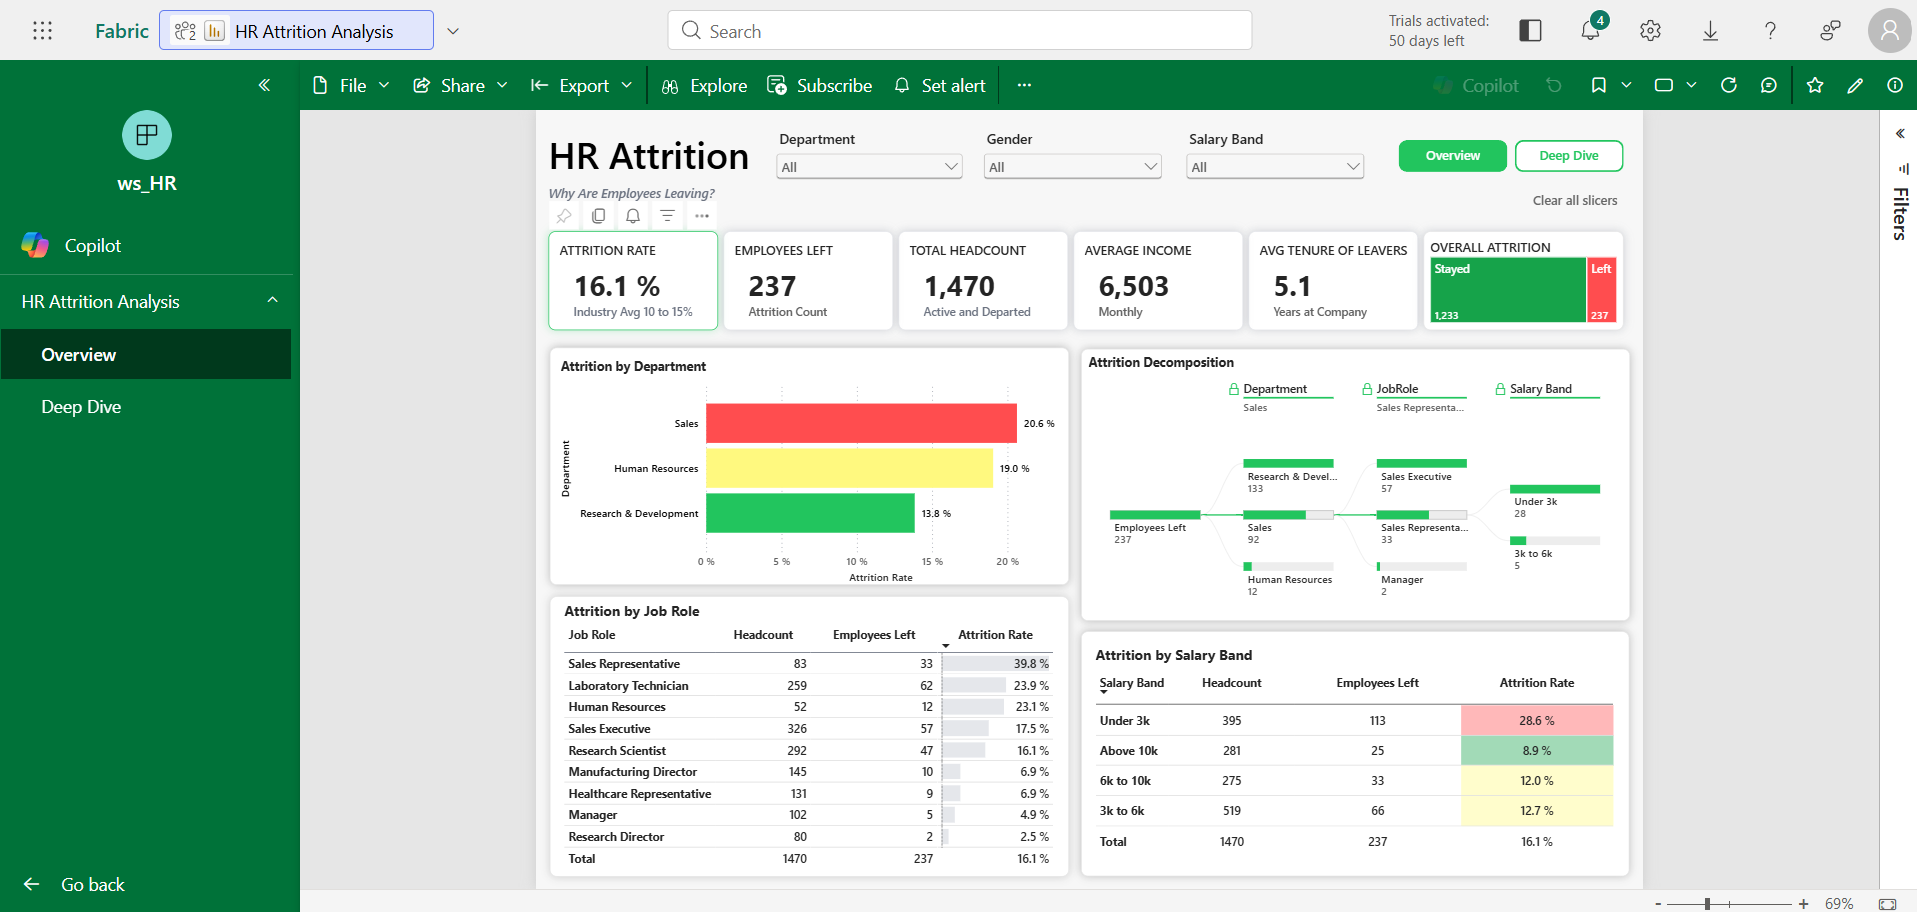

This screenshot's page, from the dashboard's own definition file:
{"tool":"powerbi","page":{"name":"Overview","canvas":[1280,900],"ordinal":0},"visuals":[{"type":"textbox","box":[14.3,21.4,259,63.7],"z":0},{"type":"textbox","box":[14.3,85.7,259,27.6],"z":1000},{"type":"slicer","fields":{"Values":["hr_employees.Department"]},"box":[272.9,21.4,225,73.3],"z":2000},{"type":"slicer","fields":{"Values":["hr_employees.Salary Band"]},"box":[747.1,21.4,215.7,72.9],"z":3000},{"type":"slicer","fields":{"Values":["hr_employees.Gender"]},"box":[512.9,21.4,215.7,72.9],"z":4000},{"type":"pageNavigator","box":[997.1,34.3,260,37.1],"z":5000},{"type":"actionButton","box":[1120,85.7,160,38.6],"z":6000},{"type":"cardVisual","title":"AVG TENURE OF LEAVERS","fields":{"Data":["hr_employees.Avg Tenure of Leavers"]},"box":[823.4,140,196,114],"z":7000},{"type":"cardVisual","title":"AVERAGE INCOME","fields":{"Data":["hr_employees.Avg Monthly Income"]},"box":[621.1,140,196,114],"z":8000},{"type":"cardVisual","title":"TOTAL HEADCOUNT","fields":{"Data":["hr_employees.Headcount"]},"box":[418.9,140,196,114],"z":9000},{"type":"cardVisual","title":"EMPLOYEES LEFT","fields":{"Data":["hr_employees.Employees Left"]},"box":[216.6,140,196,114],"z":10000},{"type":"cardVisual","title":"ATTRITION RATE","fields":{"Data":["hr_employees.Attrition Rate"]},"box":[14.3,140,196,114],"z":11000},{"type":"treemap","title":"OVERALL ATTRITION","fields":{"Values":["hr_employees.Employees Left","hr_employees.Employees Stayed"]},"box":[1025.7,140,231.4,114.3],"z":12000},{"type":"barChart","title":"Attrition by Department","fields":{"Category":["hr_employees.Department"],"Y":["hr_employees.Attrition Rate"]},"box":[16,274,600,274],"z":13000},{"type":"decompositionTreeVisual","title":"Attrition Decomposition","fields":{"Analyze":["hr_employees.Employees Left"],"ExplainBy":["hr_employees.Department","hr_employees.JobRole","hr_employees.Salary Band"]},"box":[630,276,634,314],"z":14000},{"type":"pivotTable","title":"Attrition by Job Role","fields":{"Rows":["hr_employees.JobRole"],"Values":["hr_employees.Headcount","hr_employees.Employees Left","hr_employees.Attrition Rate"]},"box":[16,562,600,324],"z":15000},{"type":"pivotTable","title":"Attrition by Salary Band","fields":{"Rows":["hr_employees.Salary Band"],"Values":["hr_employees.Headcount","hr_employees.Employees Left","hr_employees.Attrition Rate"]},"box":[630,601.7,633.3,283.3],"z":16000}]}

Visuals, with their boxes on the page's 1280x900 design canvas (x1, y1, x2, y2). These are canvas units, not pixel positions in the 1917x912 screenshot, which may show the page scaled, cropped or inside an application window:
textbox: bbox=[14, 21, 273, 85]
textbox: bbox=[14, 86, 273, 113]
slicer - hr_employees.Department: bbox=[273, 21, 498, 95]
slicer - hr_employees.Salary Band: bbox=[747, 21, 963, 94]
slicer - hr_employees.Gender: bbox=[513, 21, 729, 94]
pageNavigator: bbox=[997, 34, 1257, 71]
actionButton: bbox=[1120, 86, 1280, 124]
"AVG TENURE OF LEAVERS" cardVisual: bbox=[823, 140, 1019, 254]
"AVERAGE INCOME" cardVisual: bbox=[621, 140, 817, 254]
"TOTAL HEADCOUNT" cardVisual: bbox=[419, 140, 615, 254]
"EMPLOYEES LEFT" cardVisual: bbox=[217, 140, 413, 254]
"ATTRITION RATE" cardVisual: bbox=[14, 140, 210, 254]
"OVERALL ATTRITION" treemap: bbox=[1026, 140, 1257, 254]
"Attrition by Department" barChart: bbox=[16, 274, 616, 548]
"Attrition Decomposition" decompositionTreeVisual: bbox=[630, 276, 1264, 590]
"Attrition by Job Role" pivotTable: bbox=[16, 562, 616, 886]
"Attrition by Salary Band" pivotTable: bbox=[630, 602, 1263, 885]
